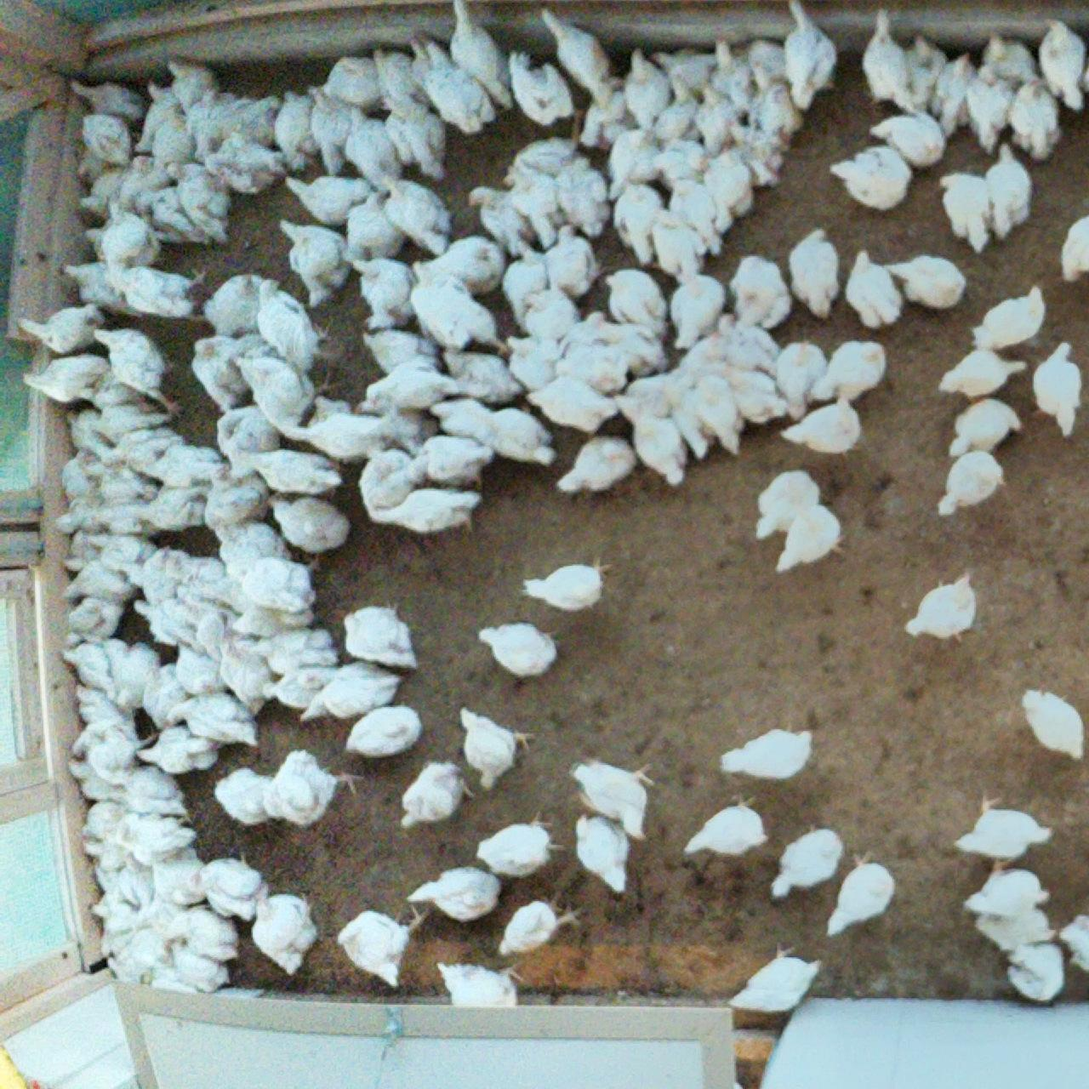chicken: (408, 261, 510, 356), (228, 353, 338, 440), (93, 324, 184, 419), (335, 905, 433, 991), (537, 7, 623, 105), (259, 748, 358, 830), (950, 789, 1056, 862), (447, 0, 517, 110), (773, 0, 839, 116), (253, 276, 331, 372), (275, 216, 352, 311), (726, 941, 824, 1015), (456, 705, 535, 793), (352, 356, 462, 419), (274, 410, 393, 468), (298, 659, 404, 724), (575, 759, 656, 844), (377, 171, 452, 259), (415, 64, 499, 141), (266, 495, 351, 571), (473, 813, 567, 881), (409, 230, 504, 297), (238, 442, 342, 503), (404, 863, 508, 924), (102, 260, 208, 319), (337, 101, 407, 190), (249, 888, 322, 973), (75, 712, 160, 784), (777, 389, 863, 460), (339, 599, 419, 675), (159, 690, 262, 749), (825, 144, 914, 212), (824, 851, 895, 936), (381, 95, 448, 185), (680, 795, 772, 859), (718, 724, 817, 783), (527, 373, 621, 435), (978, 142, 1036, 242), (497, 887, 582, 955), (770, 822, 846, 898), (212, 403, 287, 480), (969, 284, 1045, 359), (101, 200, 165, 289), (165, 159, 231, 245), (398, 759, 475, 832), (375, 483, 483, 535), (514, 556, 612, 613), (961, 858, 1051, 920), (346, 256, 418, 333), (542, 222, 613, 300), (665, 175, 729, 261), (203, 133, 290, 196), (933, 449, 1009, 521), (506, 47, 576, 125), (808, 340, 888, 408), (505, 158, 562, 253), (901, 573, 977, 644), (1030, 340, 1085, 438), (753, 466, 821, 545), (190, 336, 257, 416), (477, 618, 563, 680), (235, 553, 325, 612), (557, 433, 639, 497), (20, 349, 110, 407), (610, 176, 668, 266), (1002, 75, 1061, 163), (436, 346, 521, 407), (936, 346, 1028, 402), (1034, 19, 1089, 112), (468, 184, 537, 258), (62, 259, 143, 322), (858, 7, 910, 104), (551, 154, 611, 238), (474, 403, 554, 466), (1019, 687, 1088, 760), (843, 250, 905, 331), (308, 81, 359, 179), (200, 851, 269, 923), (775, 502, 844, 574), (713, 311, 786, 379), (18, 301, 103, 359), (630, 400, 688, 485), (572, 810, 631, 893), (278, 173, 374, 224), (160, 903, 240, 964), (408, 433, 492, 491), (601, 269, 670, 339), (107, 761, 191, 818), (728, 254, 791, 330), (687, 371, 744, 455), (133, 724, 223, 777), (945, 397, 1023, 458), (206, 93, 280, 157), (340, 191, 403, 266), (880, 255, 967, 309), (890, 32, 948, 113), (136, 185, 214, 245), (602, 123, 661, 202), (962, 64, 1012, 157), (938, 169, 994, 252), (790, 228, 841, 319), (649, 70, 707, 150), (623, 46, 675, 134), (976, 26, 1043, 94), (726, 112, 785, 189), (670, 267, 723, 352), (712, 363, 787, 423), (867, 109, 943, 168), (650, 207, 708, 284), (552, 344, 636, 397), (436, 958, 525, 1008), (113, 811, 200, 862), (129, 76, 185, 155), (344, 703, 423, 759), (706, 35, 758, 120), (318, 51, 387, 115), (663, 372, 712, 462), (215, 637, 270, 717), (104, 639, 161, 716), (972, 902, 1059, 952), (774, 340, 829, 419), (201, 274, 266, 340), (600, 315, 669, 377), (131, 479, 207, 535), (143, 843, 208, 908), (73, 678, 139, 742), (931, 52, 980, 138), (371, 47, 431, 117), (142, 443, 231, 490), (500, 132, 576, 187), (359, 323, 439, 375), (360, 440, 410, 523), (707, 146, 754, 234), (751, 64, 801, 145), (650, 134, 717, 193), (254, 625, 338, 672), (105, 424, 187, 472), (210, 519, 292, 567), (498, 248, 544, 333), (520, 287, 575, 358), (202, 466, 266, 527), (274, 88, 320, 172), (426, 392, 497, 446), (62, 593, 128, 651), (84, 401, 172, 444), (61, 639, 118, 705), (146, 108, 201, 176), (131, 810, 199, 865), (86, 531, 162, 580), (259, 664, 335, 713), (614, 368, 675, 429), (213, 768, 276, 827), (1008, 942, 1068, 1003), (66, 555, 139, 605), (68, 75, 145, 122), (117, 153, 173, 217), (165, 937, 230, 992), (503, 333, 563, 392), (229, 603, 317, 643), (382, 405, 446, 459), (692, 83, 738, 158), (652, 47, 722, 96), (52, 444, 106, 507), (406, 33, 454, 103), (144, 661, 191, 732), (185, 83, 227, 161), (87, 495, 161, 539), (96, 458, 158, 510), (165, 550, 224, 604), (155, 593, 206, 655), (144, 541, 190, 607), (79, 113, 134, 168), (62, 406, 115, 462), (170, 639, 219, 698), (74, 368, 144, 409), (133, 592, 182, 649), (735, 39, 792, 87), (165, 56, 217, 108), (681, 326, 731, 378), (77, 168, 125, 222), (195, 598, 236, 661), (197, 90, 254, 135), (559, 308, 620, 350), (194, 575, 255, 617), (66, 759, 120, 806), (77, 828, 135, 871), (117, 920, 170, 965), (116, 849, 154, 910), (1056, 213, 1089, 283), (53, 494, 109, 535), (1056, 909, 1089, 976), (61, 524, 103, 575), (79, 800, 130, 841), (131, 894, 185, 931), (305, 392, 352, 434), (88, 893, 138, 930), (147, 964, 198, 997), (99, 919, 138, 961), (91, 861, 127, 903), (102, 954, 146, 987), (75, 144, 115, 180), (80, 227, 116, 265)
